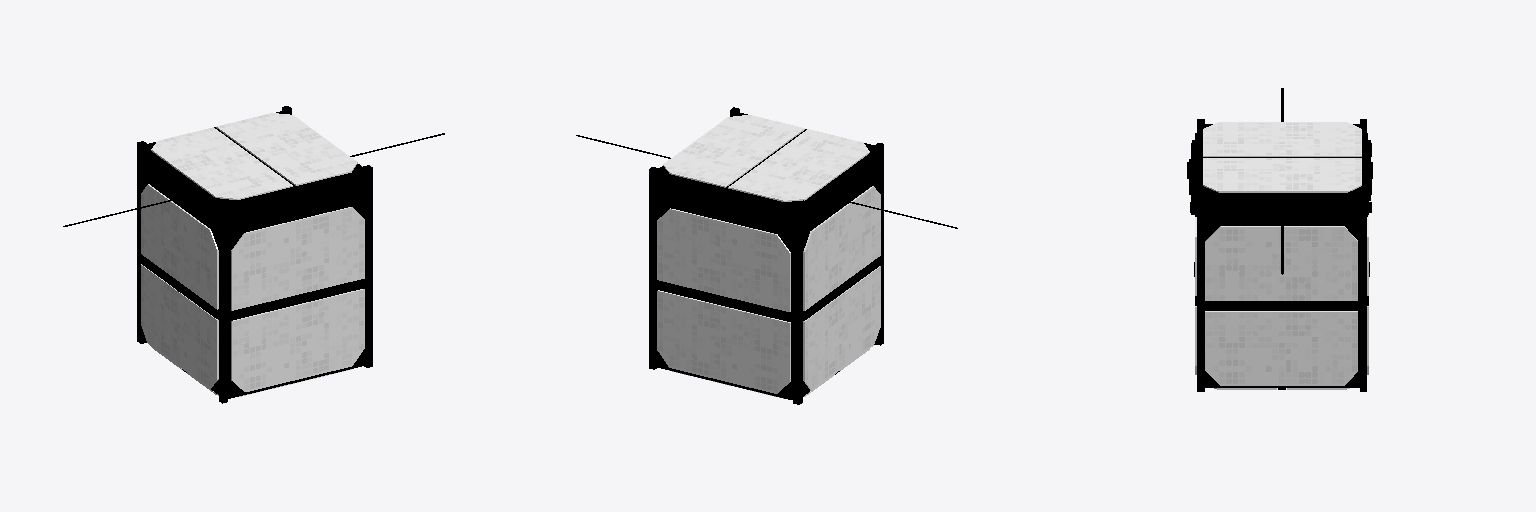
File: Cubesat1RU-label-solar_panel.obj
3 renders of one model, left to right at view 1: azimuth 30°, elevation 25°; view 2: azimuth 150°, elevation 25°; view 3: azimuth 270°, elevation 25°, orthographic.
Visible parts, largest first — view 1: Cubesat1RU-label-solar_panel; view 2: Cubesat1RU-label-solar_panel; view 3: Cubesat1RU-label-solar_panel.
Boxes of the visible parts, <box> form: Cubesat1RU-label-solar_panel: <box>63,106,444,403</box>; Cubesat1RU-label-solar_panel: <box>576,107,957,404</box>; Cubesat1RU-label-solar_panel: <box>1187,88,1372,391</box>.
Bounding box in the file's own units: 2.08 × 1.04 × 0.8788.